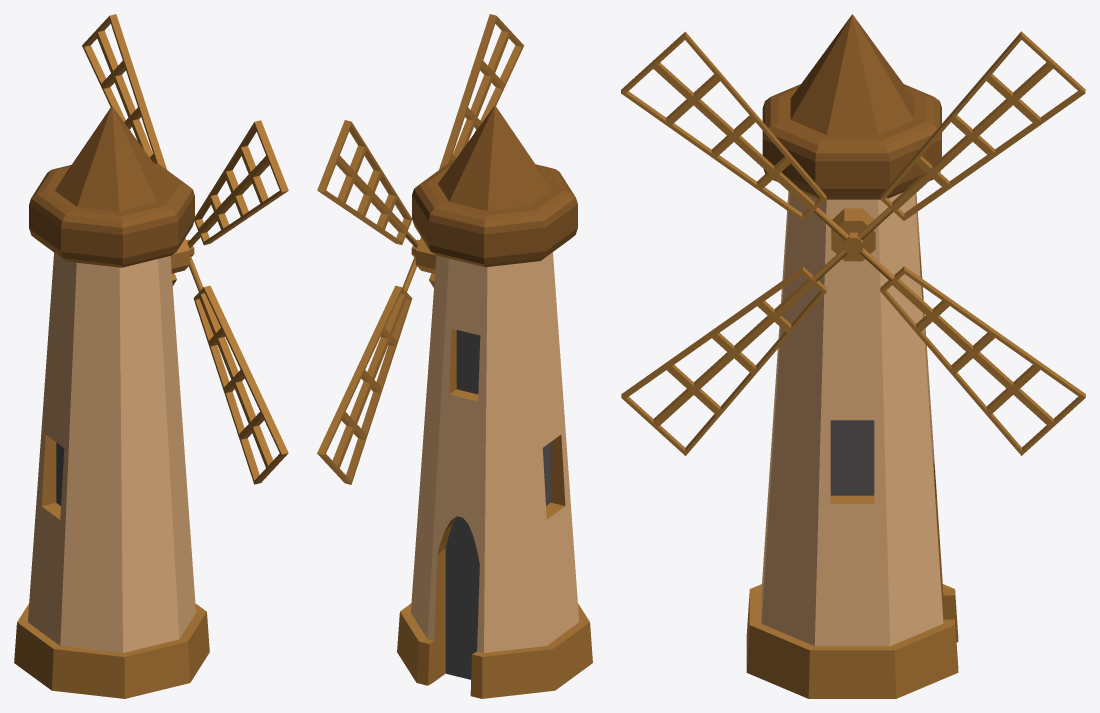
The model's file is MillLevel1.fbx.
3 views of the same model, side by side, from view 1: azimuth 30°, elevation 25°; view 2: azimuth 150°, elevation 25°; view 3: azimuth 270°, elevation 25° (orthographic). The views are drawn at different scales.
Parts seen in each view (by area): view 1: MillLevel1, Structure.001; view 2: MillLevel1, Structure.001; view 3: MillLevel1, Structure.001.
Part boxes in pixels (box(x1,y1,x2,y2)): MillLevel1: box(14, 106, 209, 698); Structure.001: box(82, 14, 288, 484); MillLevel1: box(397, 105, 592, 698); Structure.001: box(317, 14, 524, 484); MillLevel1: box(746, 14, 958, 698); Structure.001: box(621, 31, 1085, 455).
Bounding box in the file's own units: 193 × 669 × 424.
